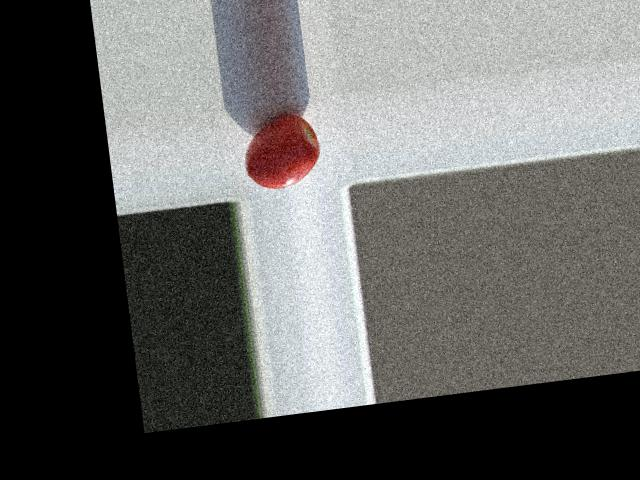tomato: (239, 111, 323, 192)
